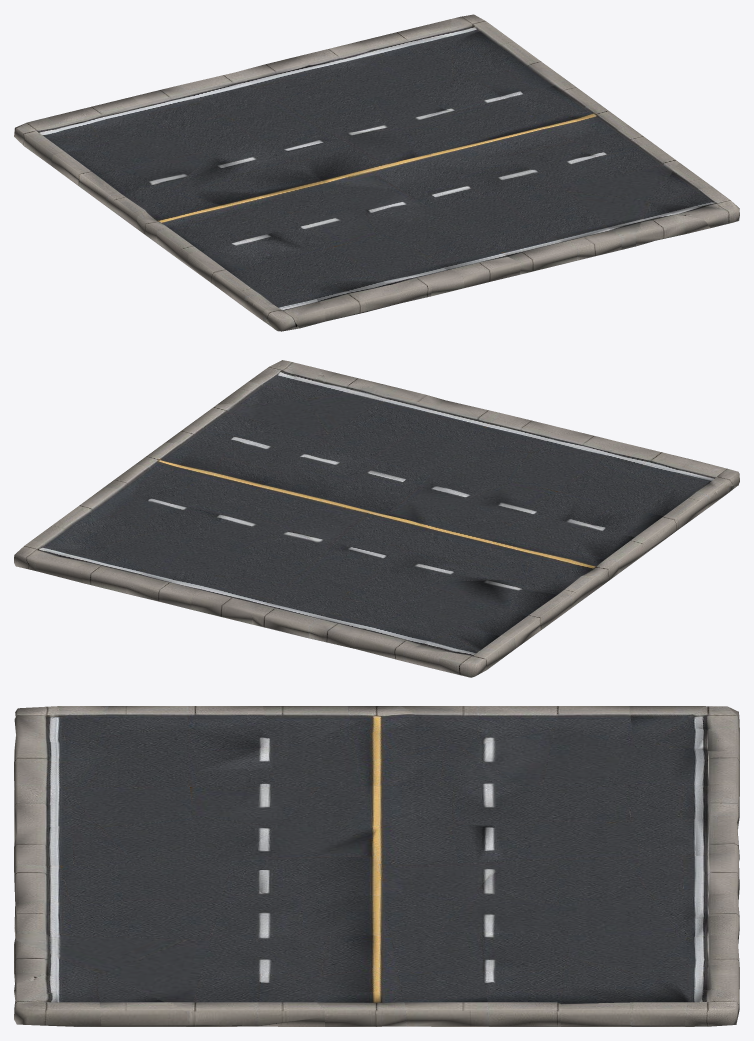
The model's file is roadseg_lod1.glb.
The picture shows the model from 3 angles, top to bottom: view 1: azimuth 30°, elevation 25°; view 2: azimuth 150°, elevation 25°; view 3: azimuth 270°, elevation 25°; orthographic projection. The views are drawn at different scales.
Parts seen in each view (by area): view 1: mesh_node; view 2: mesh_node; view 3: mesh_node.
Part boxes in pixels (x1=…): mesh_node: x1=14, y1=14, x2=739, y2=331; mesh_node: x1=14, y1=360, x2=739, y2=677; mesh_node: x1=14, y1=706, x2=739, y2=1026.
Bounding box in the file's own units: 1.9 × 0.0479 × 1.9.
1 material, 1 textured.
